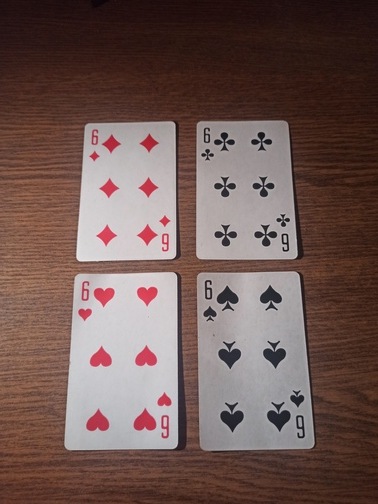sixclubs: (194, 119, 299, 260)
sixdiamonds: (75, 122, 178, 261)
sixhearts: (64, 273, 182, 452)
sixspades: (195, 271, 315, 452)
